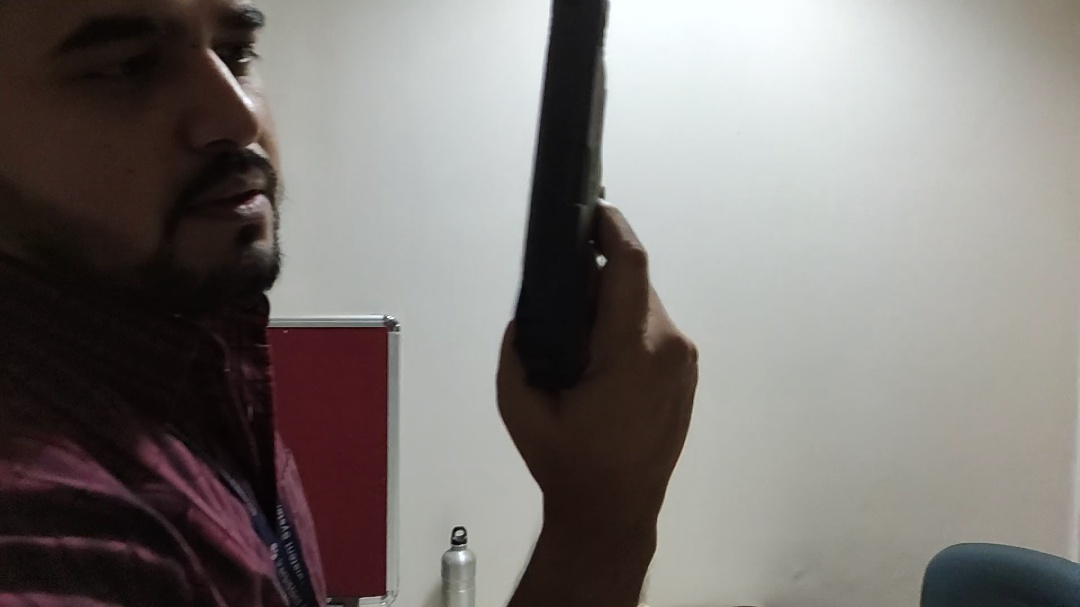gun: (513, 3, 636, 403)
